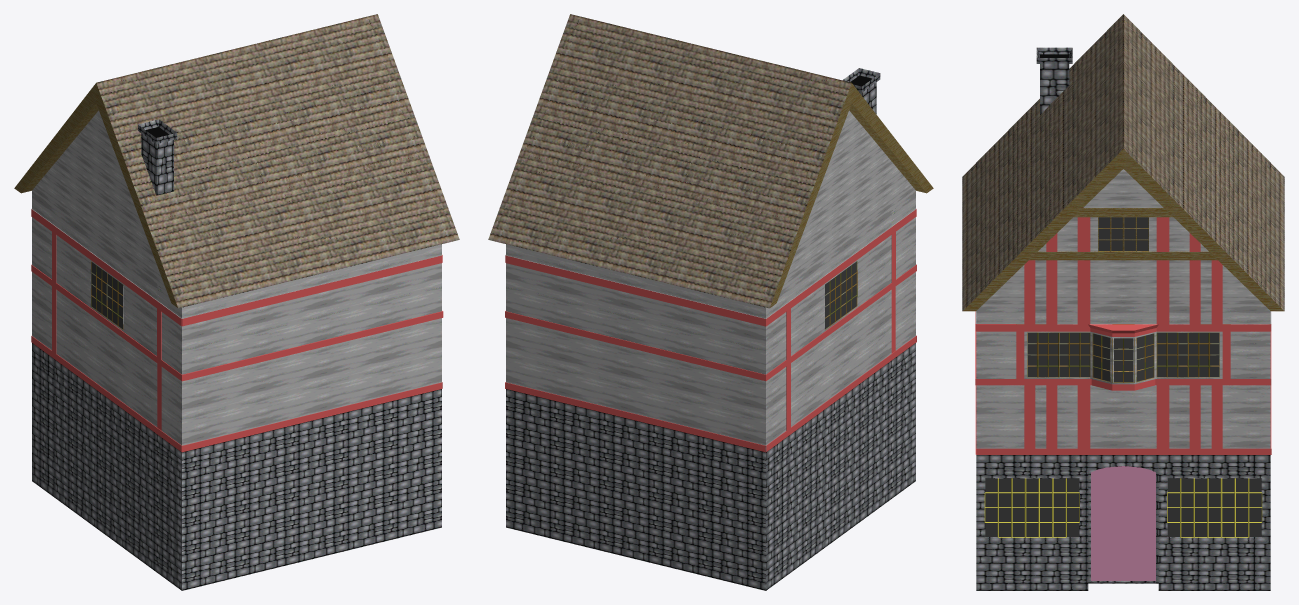
File: tavern.fbx
The picture shows the model from 3 angles, left to right: view 1: azimuth 30°, elevation 25°; view 2: azimuth 150°, elevation 25°; view 3: azimuth 270°, elevation 25°; orthographic projection.
Parts seen in each view (by area): view 1: Cube.019; view 2: Cube.019; view 3: Cube.019.
Boxes of the visible parts, x1,y1,x2,y2 form: Cube.019: [14, 14, 459, 590]; Cube.019: [488, 14, 933, 590]; Cube.019: [962, 14, 1284, 590].
Bounding box in the file's own units: 3283 × 5026 × 3279.
